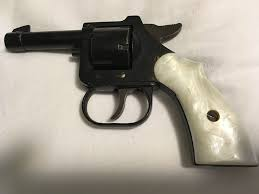gun: (3, 14, 258, 170)
